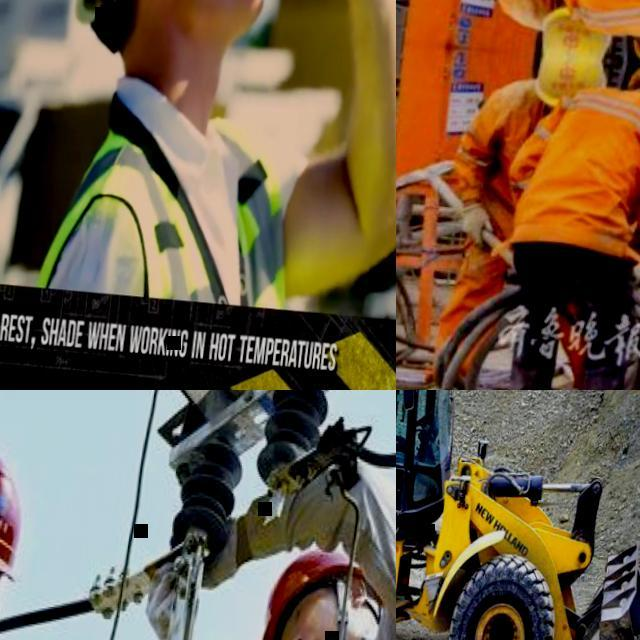helmet: (253, 541, 373, 640), (530, 50, 612, 111), (534, 6, 614, 62), (0, 439, 31, 580), (620, 61, 640, 121)
vest: (39, 84, 312, 316), (514, 81, 640, 262), (466, 81, 554, 235), (545, 0, 640, 39), (494, 0, 571, 23)
